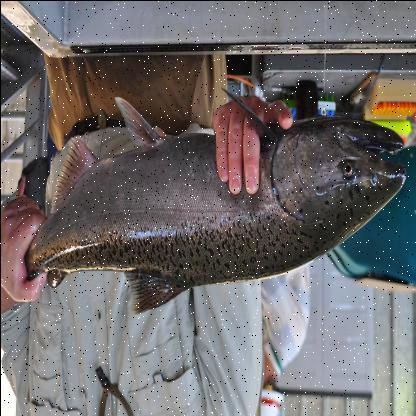fish: (15, 86, 408, 322)
